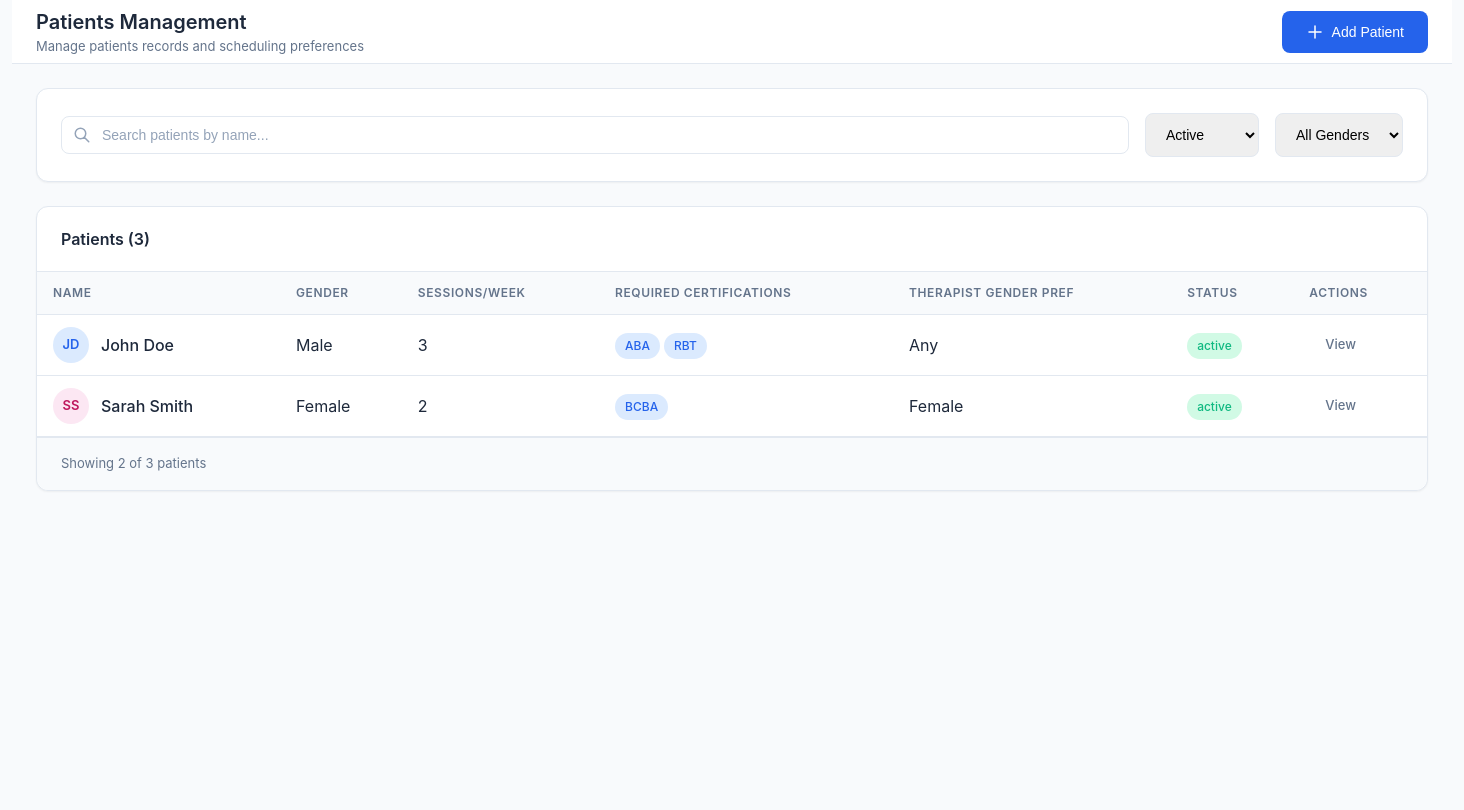
Test case: PatientListPage › add patient modal › should have required form fields in add modal
Click the button "Add Patient". click: click(1355, 32)
box: [1282,10,1428,52]
(page scrolled)
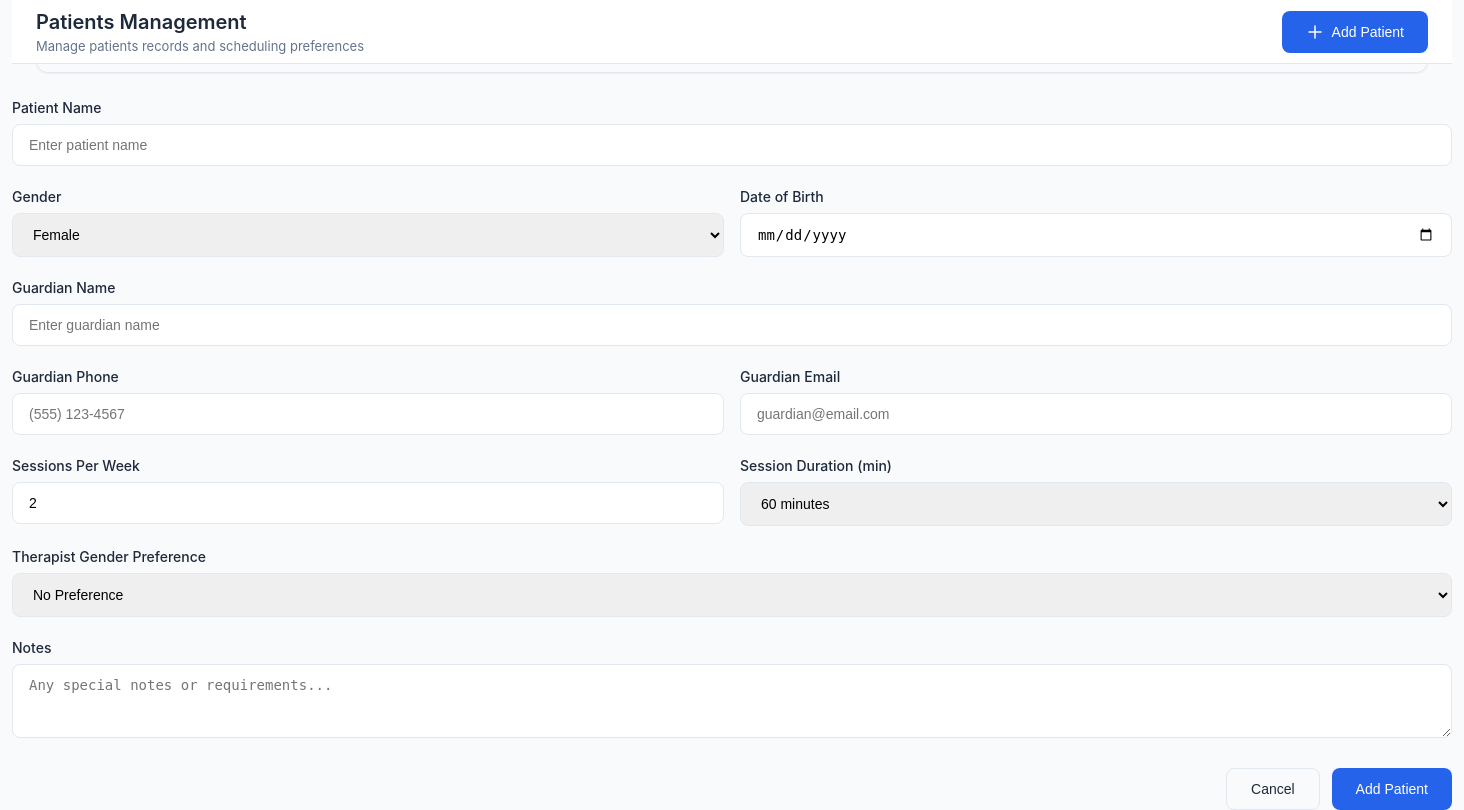
Result: the field with id "name" is shown at [12,124,1452,166]
Result: the dropdown with id "gender" is shown at [12,212,724,256]
Result: the number field with id "sessions" is shown at [12,482,724,524]
